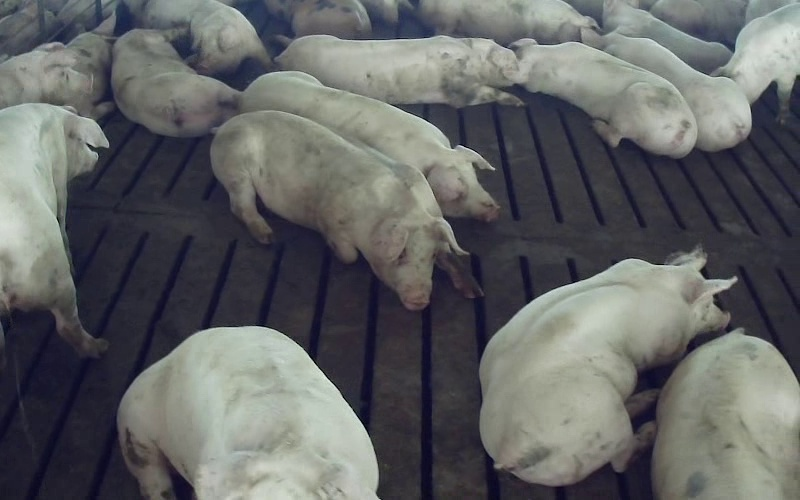pig: (480, 247, 736, 485), (210, 111, 480, 309), (118, 326, 377, 499), (239, 71, 499, 221), (652, 329, 799, 499), (510, 39, 696, 157), (581, 29, 751, 151), (275, 35, 521, 107), (111, 29, 238, 136), (713, 3, 799, 123), (142, 0, 270, 75), (602, 0, 731, 73), (416, 0, 597, 45)
